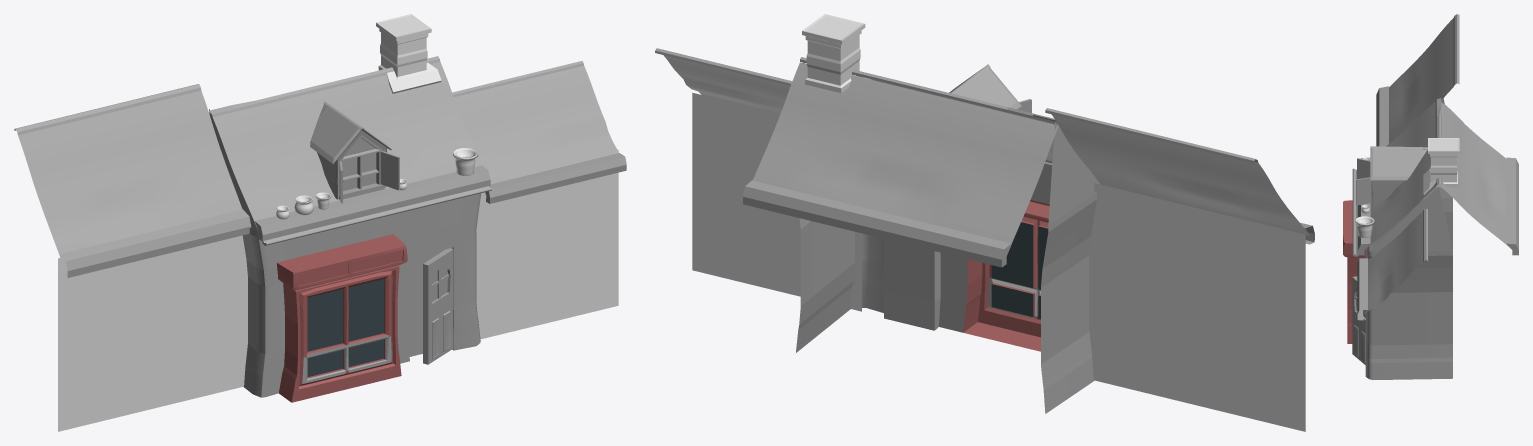
File: house front.fbx
3 views of the same model, side by side, from view 1: azimuth 30°, elevation 25°; view 2: azimuth 150°, elevation 25°; view 3: azimuth 270°, elevation 25° (orthographic). The views are drawn at different scales.
Parts seen in each view (by area): view 1: pCube39; view 2: pCube39; view 3: pCube39.
Part boxes in pixels (x1,y1,x2,y2): pCube39: [14, 14, 626, 431]; pCube39: [655, 14, 1314, 431]; pCube39: [1343, 14, 1518, 379].
Bounding box in the file's own units: 1502 × 754 × 537.
